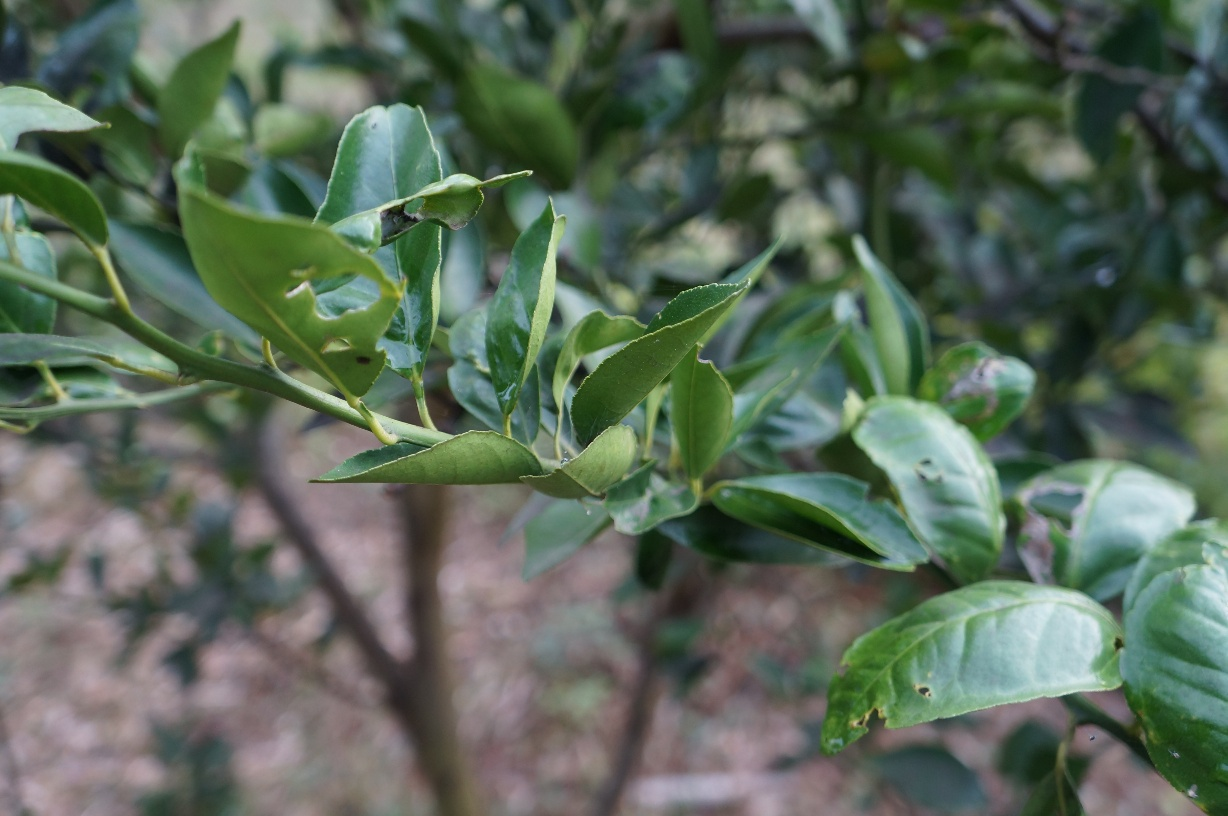curly: (279, 162, 540, 295)
